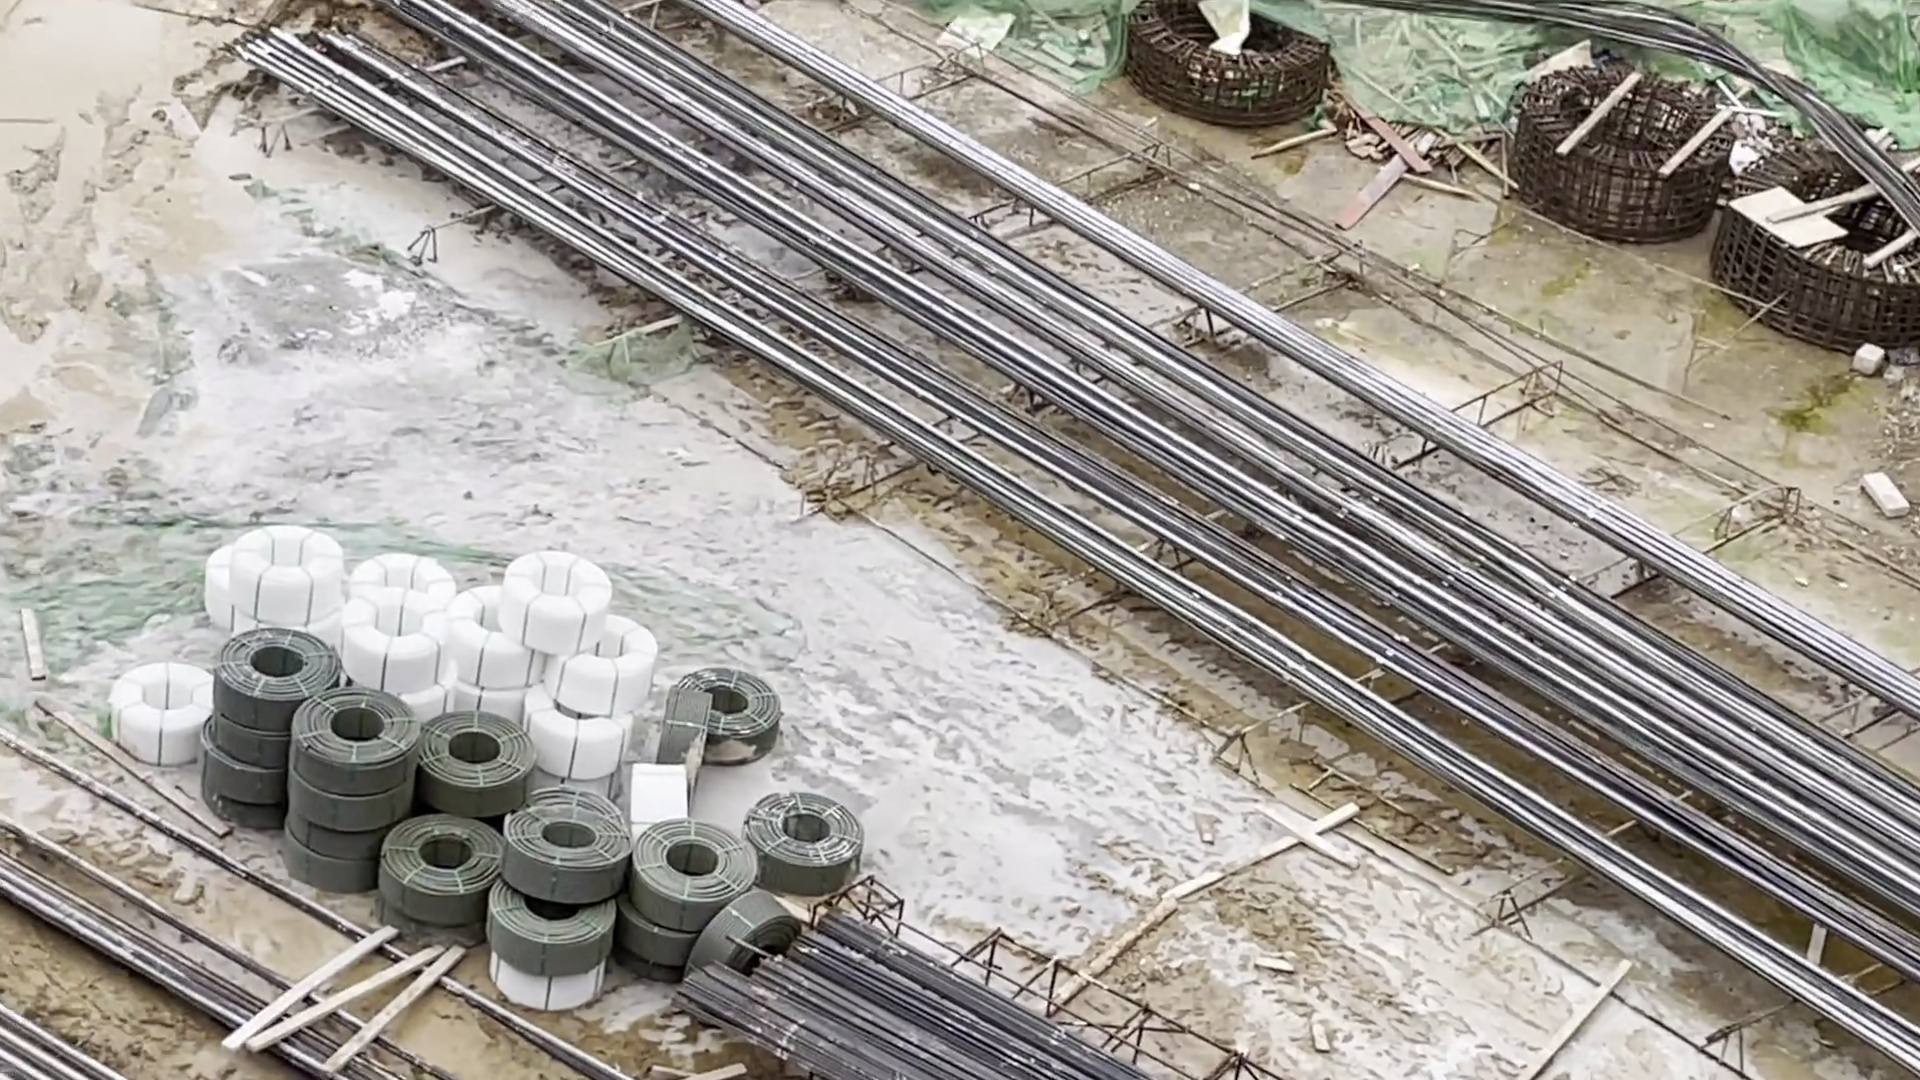rebar: (1130, 397, 1920, 918), (444, 1, 1117, 475), (694, 924, 1065, 1080)
